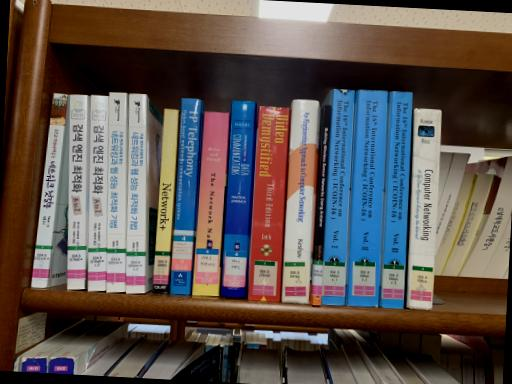book-spine: (347, 91, 386, 307), (247, 106, 290, 301), (282, 99, 319, 303), (321, 88, 355, 305), (30, 92, 67, 287), (379, 91, 412, 309), (220, 100, 256, 299), (191, 112, 229, 296), (407, 108, 441, 309), (169, 98, 201, 295), (153, 109, 178, 293), (125, 93, 146, 293), (66, 95, 87, 290), (106, 92, 126, 293), (88, 95, 108, 291), (312, 104, 331, 306)
